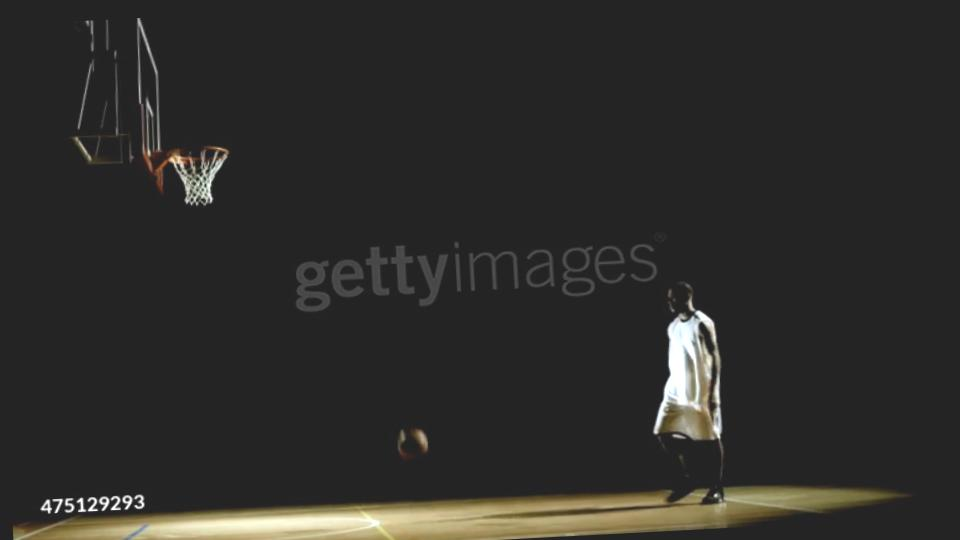hoop: (164, 146, 229, 172)
